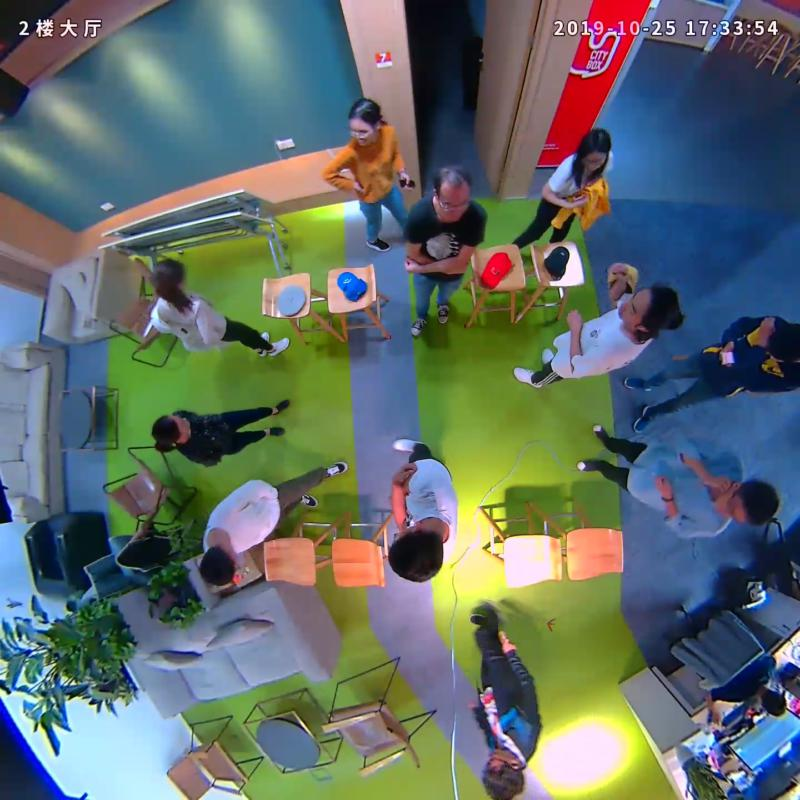head: (387, 523, 444, 583), (712, 479, 780, 526), (617, 285, 680, 335), (481, 746, 525, 800), (432, 164, 472, 220), (197, 543, 237, 584), (348, 98, 381, 147), (577, 129, 611, 172), (151, 415, 191, 446), (150, 258, 186, 290)
